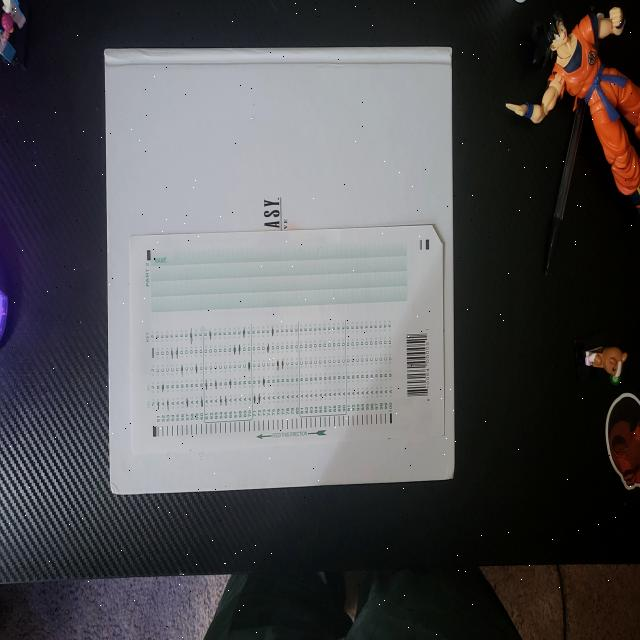scantron_back: (129, 225, 444, 454)
